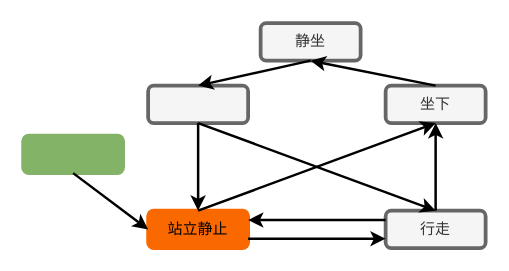
Image size: 509x271. Some labels were removed from this diagram. The box of each missing label's shape, as (x1, y1, x2, y2) in pixels:
开始: (21, 133, 124, 174)
起立: (146, 83, 249, 124)
